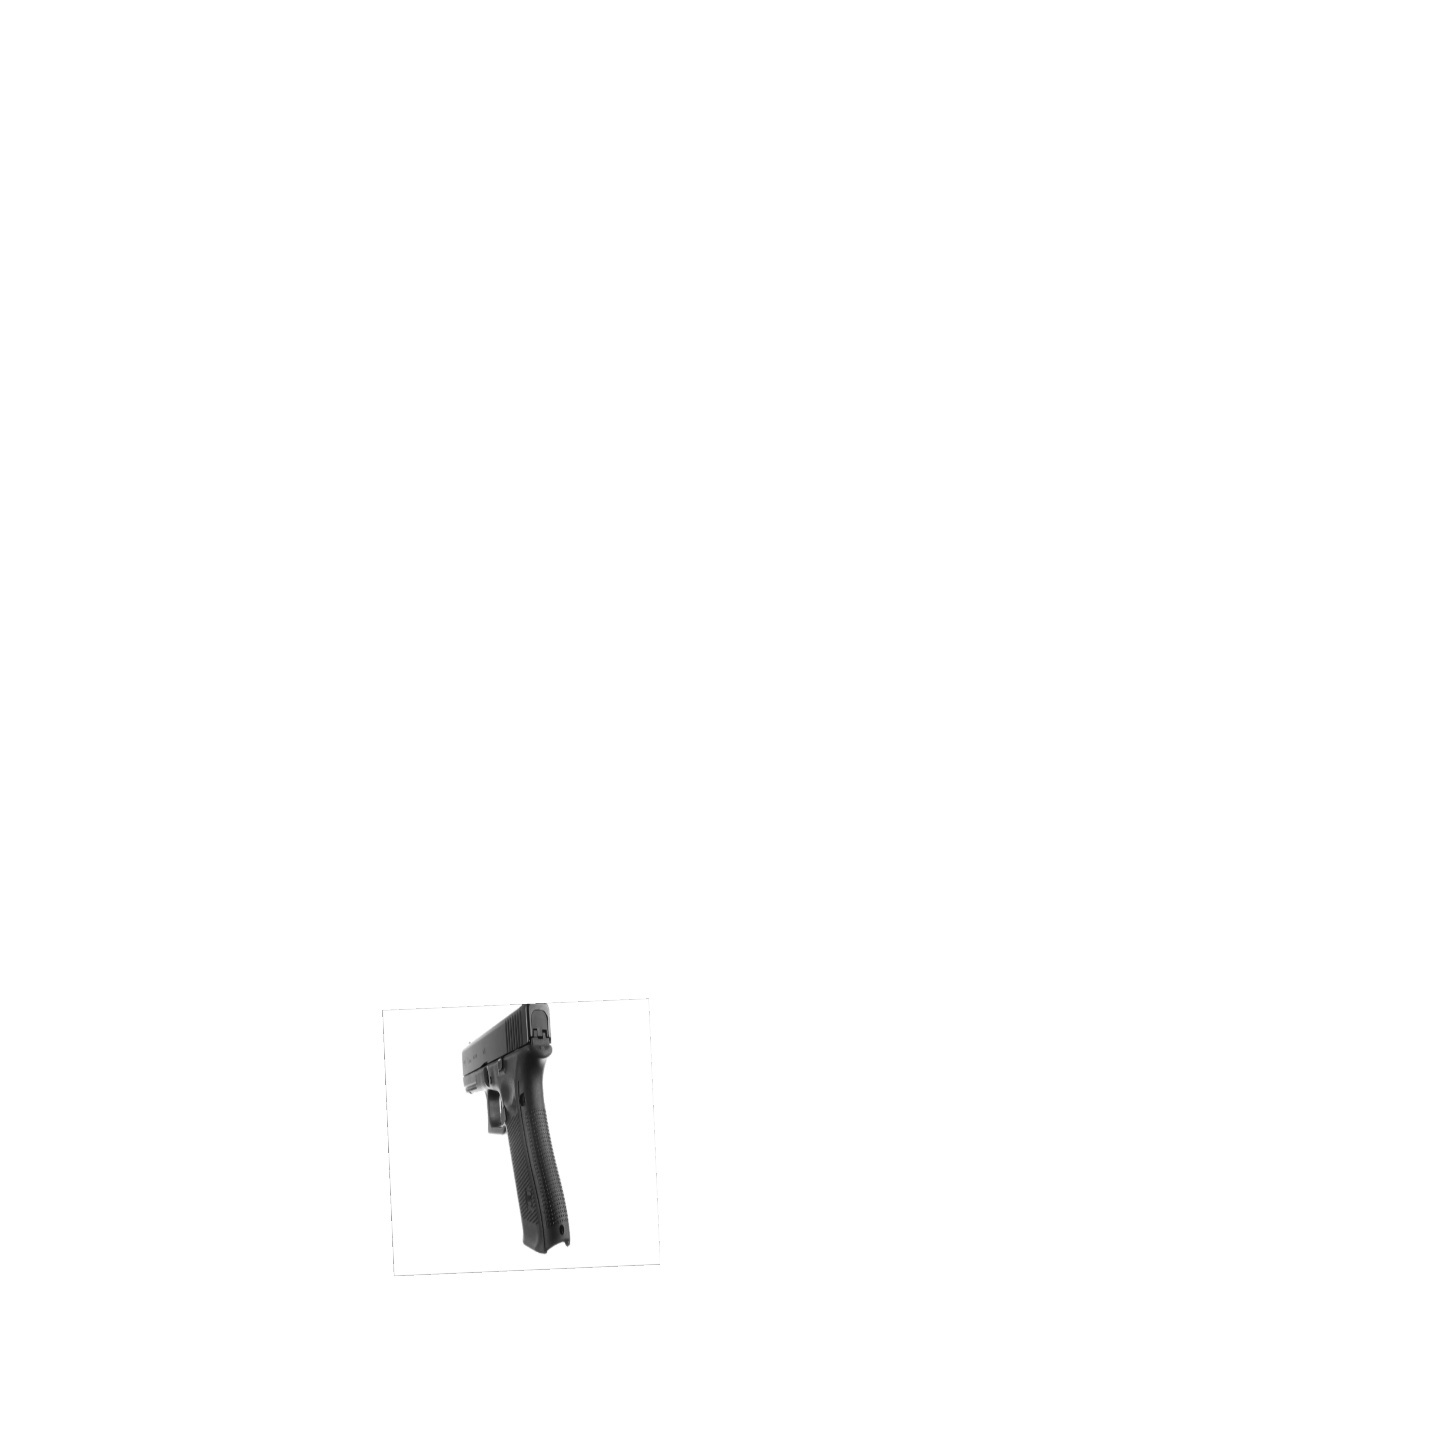gun: (460, 1001, 579, 1256)
